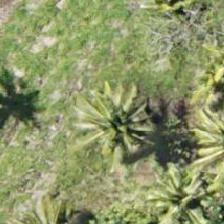coconut_tree: (64, 69, 154, 159), (137, 149, 223, 223), (139, 0, 223, 73), (170, 54, 223, 144)
